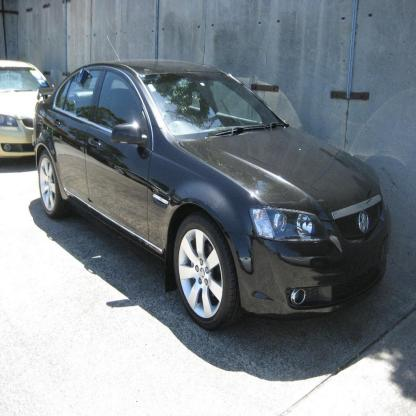Car: (33, 36, 390, 332), (1, 62, 52, 160)
